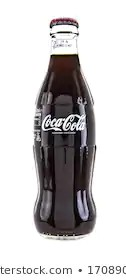coke-glass-bottle: (31, 13, 99, 243)
